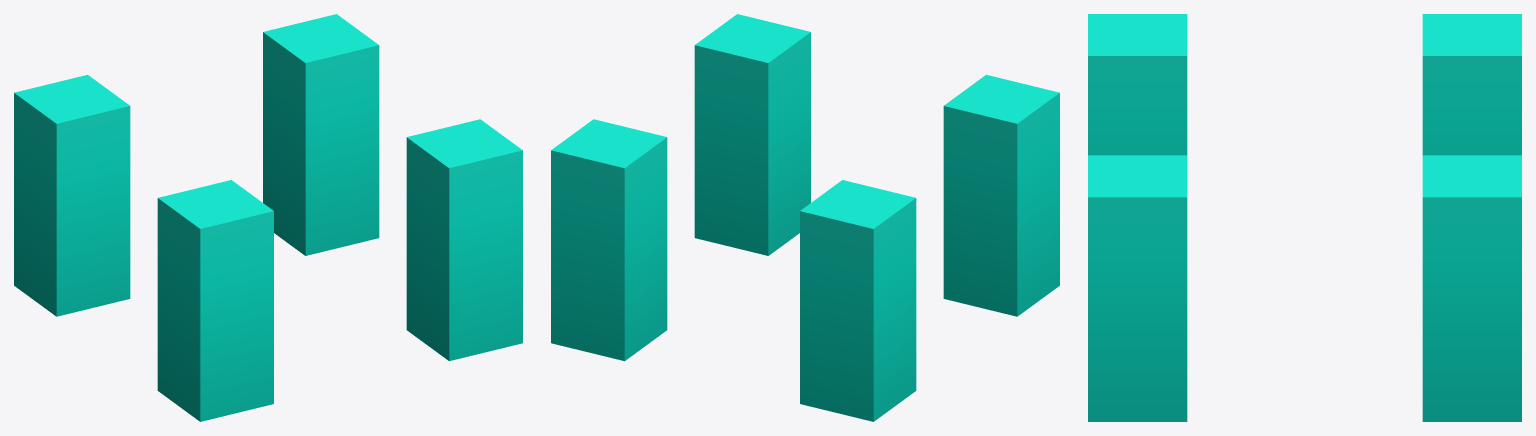
Rendered from Table_leg_02_C05.fbx.
3 renders of one model, left to right at view 1: azimuth 30°, elevation 25°; view 2: azimuth 150°, elevation 25°; view 3: azimuth 270°, elevation 25°, orthographic. The views are drawn at different scales.
Parts seen in each view (by area): view 1: Table_leg_02_C05; view 2: Table_leg_02_C05; view 3: Table_leg_02_C05.
Part boxes in pixels (box(x1,y1,x2,y2)): Table_leg_02_C05: box(14, 14, 522, 421); Table_leg_02_C05: box(551, 14, 1059, 421); Table_leg_02_C05: box(1088, 14, 1521, 421).
Size of the model in its own units: 87.5 by 50 by 87.5.
